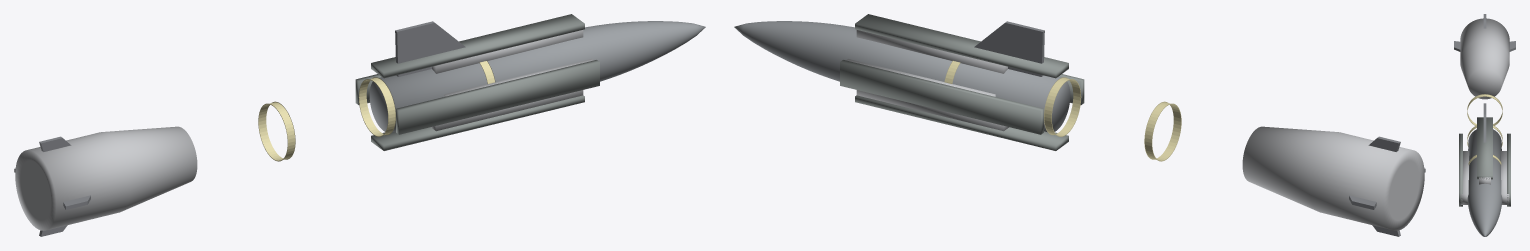
Rendered from RU_ASM_Oniks_LOD0.fbx.
3 views of the same model, side by side, from view 1: azimuth 30°, elevation 25°; view 2: azimuth 150°, elevation 25°; view 3: azimuth 270°, elevation 25° (orthographic). The views are drawn at different scales.
Parts seen in each view (by area): view 1: WPN_RU_ASM_Oniks_LOD0_Tail, WPN_RU_ASM_Oniks_LOD0_Nose, WPN_RU_ASM_Oniks_LOD0_Body, WPN_RU_ASM_Oniks_LOD0_Detail, WPN_RU_ASM_Oniks_LOD0_Marking, WPN_RU_ASM_Oniks_LOD0_Wings, WPN_RU_ASM_Oniks_LOD0_Fins; view 2: WPN_RU_ASM_Oniks_LOD0_Tail, WPN_RU_ASM_Oniks_LOD0_Nose, WPN_RU_ASM_Oniks_LOD0_Body, WPN_RU_ASM_Oniks_LOD0_Detail, WPN_RU_ASM_Oniks_LOD0_Marking, WPN_RU_ASM_Oniks_LOD0_Wings, WPN_RU_ASM_Oniks_LOD0_Fins; view 3: WPN_RU_ASM_Oniks_LOD0_Tail, WPN_RU_ASM_Oniks_LOD0_Body, WPN_RU_ASM_Oniks_LOD0_Nose, WPN_RU_ASM_Oniks_LOD0_Detail, WPN_RU_ASM_Oniks_LOD0_Marking, WPN_RU_ASM_Oniks_LOD0_Fins, WPN_RU_ASM_Oniks_LOD0_Wings.
Boxes of the visible parts, x1,y1,x2,y2 form: WPN_RU_ASM_Oniks_LOD0_Tail: (15,126,197,230); WPN_RU_ASM_Oniks_LOD0_Nose: (355,14,599,150); WPN_RU_ASM_Oniks_LOD0_Body: (369,21,705,131); WPN_RU_ASM_Oniks_LOD0_Detail: (431,30,593,131); WPN_RU_ASM_Oniks_LOD0_Marking: (258,60,495,161); WPN_RU_ASM_Oniks_LOD0_Wings: (395,21,465,76); WPN_RU_ASM_Oniks_LOD0_Fins: (14,136,90,236); WPN_RU_ASM_Oniks_LOD0_Tail: (1242,126,1424,230); WPN_RU_ASM_Oniks_LOD0_Nose: (840,14,1084,150); WPN_RU_ASM_Oniks_LOD0_Body: (734,21,1070,131); WPN_RU_ASM_Oniks_LOD0_Detail: (846,30,1008,131); WPN_RU_ASM_Oniks_LOD0_Marking: (944,60,1181,161); WPN_RU_ASM_Oniks_LOD0_Wings: (974,21,1044,76); WPN_RU_ASM_Oniks_LOD0_Fins: (1349,136,1425,236); WPN_RU_ASM_Oniks_LOD0_Tail: (1460,18,1509,99); WPN_RU_ASM_Oniks_LOD0_Body: (1467,129,1502,236); WPN_RU_ASM_Oniks_LOD0_Nose: (1459,117,1510,206); WPN_RU_ASM_Oniks_LOD0_Detail: (1460,151,1509,204); WPN_RU_ASM_Oniks_LOD0_Marking: (1467,94,1502,165); WPN_RU_ASM_Oniks_LOD0_Fins: (1454,14,1515,51); WPN_RU_ASM_Oniks_LOD0_Wings: (1483,103,1486,142).
Bounding box in the file's own units: 8.9 × 1.19 × 1.5.
